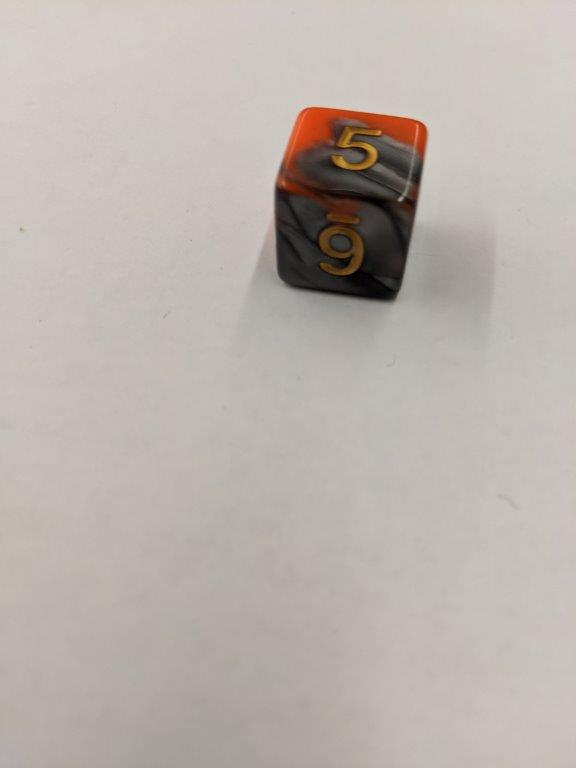d6-5: (274, 103, 429, 303)
